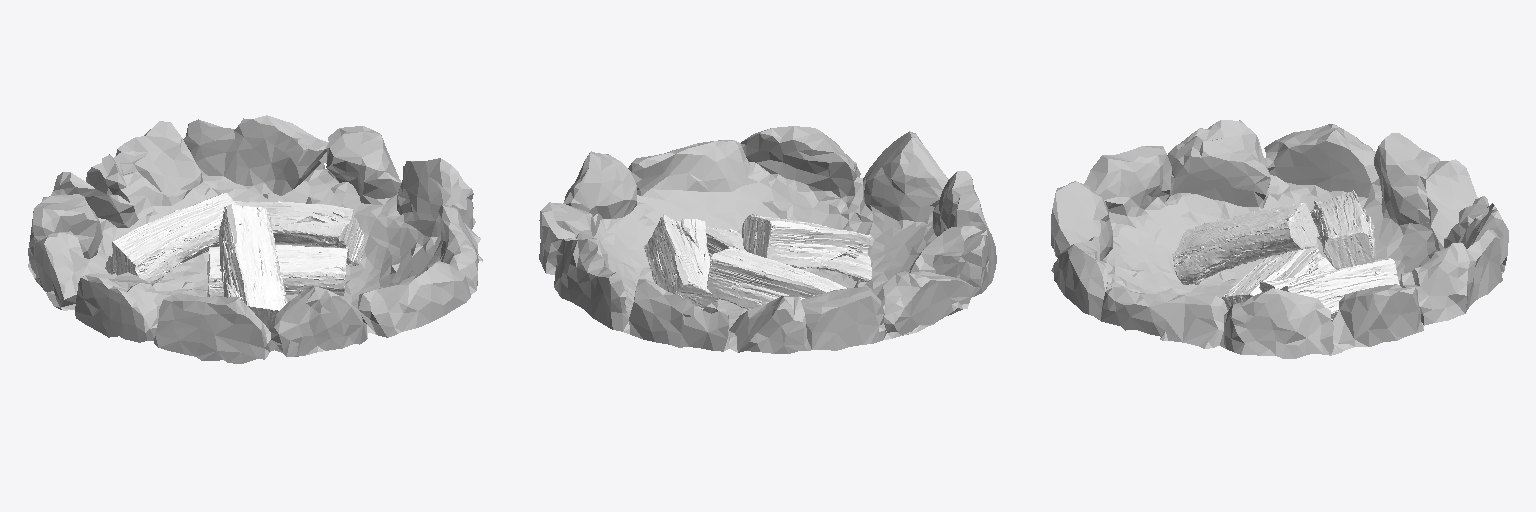
File: campfire.obj
The picture shows the model from 3 angles: view 1: azimuth 30°, elevation 25°; view 2: azimuth 150°, elevation 25°; view 3: azimuth 270°, elevation 25°; orthographic projection.
Parts seen in each view (by area): view 1: stone_fire_pit, Wood_Log_(Photoscanned); view 2: stone_fire_pit, Wood_Log_(Photoscanned); view 3: stone_fire_pit, Wood_Log_(Photoscanned).
Boxes of the visible parts, box(x1,y1,x2,y2) form: stone_fire_pit: box(28, 115, 482, 363); Wood_Log_(Photoscanned): box(105, 193, 364, 328); stone_fire_pit: box(539, 126, 996, 353); Wood_Log_(Photoscanned): box(643, 214, 871, 309); stone_fire_pit: box(1051, 120, 1508, 358); Wood_Log_(Photoscanned): box(1172, 190, 1399, 320).
Bounding box in the file's own units: 1.01 × 0.2718 × 1.